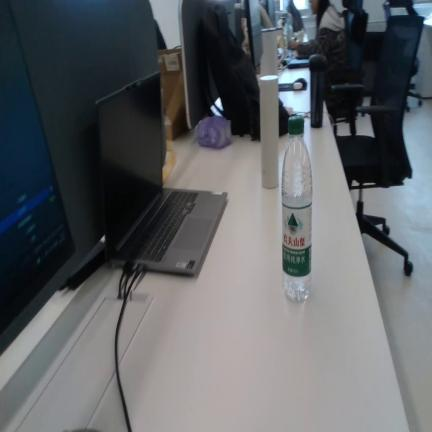bottle: (281, 115, 312, 301)
